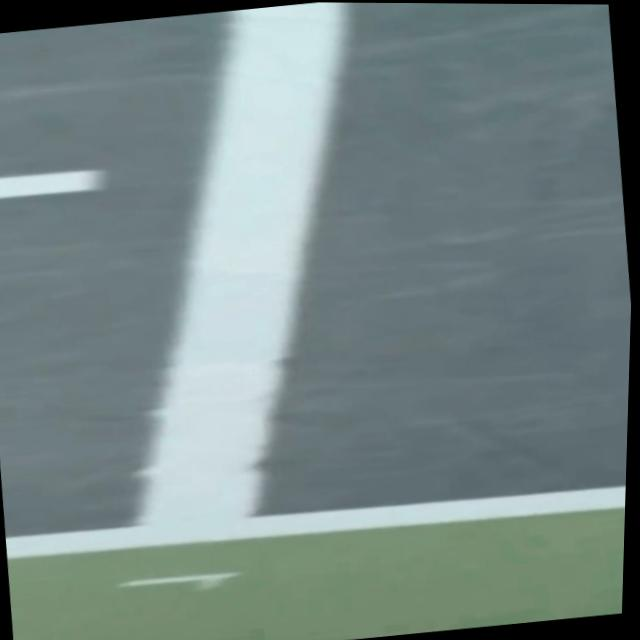center: (0, 168, 106, 196)
right: (5, 484, 626, 557)
